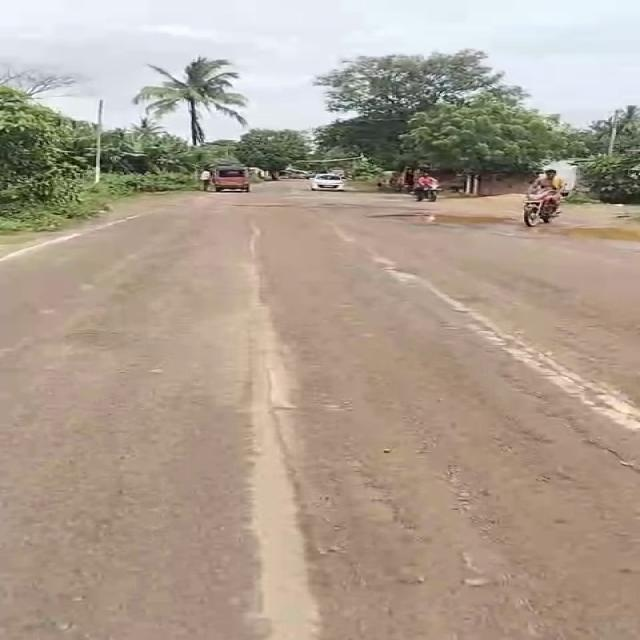pothole: (383, 208, 502, 228)
